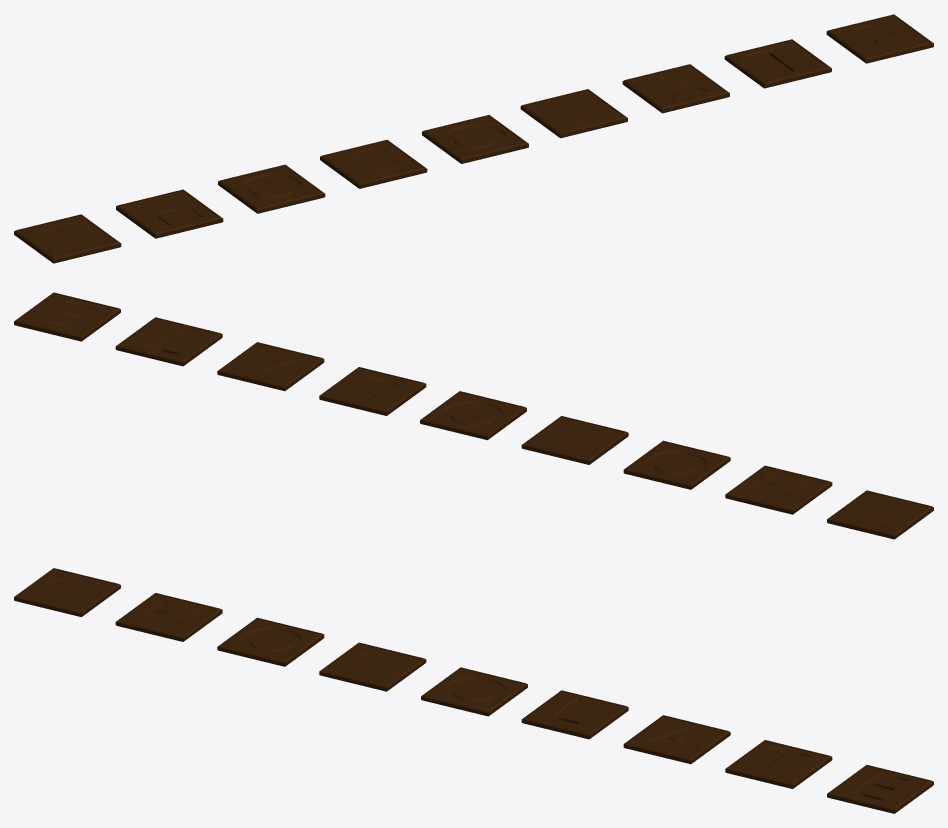
Rendered from chocolate.glb.
The picture shows the model from 3 angles, top to bottom: view 1: azimuth 30°, elevation 25°; view 2: azimuth 150°, elevation 25°; view 3: azimuth 330°, elevation 25°; orthographic projection.
Visible parts, largest first — view 1: chocolateO, chocolateC, chocolateL, chocolateE, chocolateA, chocolateC2, chocolateH, chocolateT, chocolateO2; view 2: chocolateH, chocolateC2, chocolateA, chocolateE, chocolateL, chocolateT, chocolateO, chocolateO2, chocolateC; view 3: chocolateC2, chocolateH, chocolateA, chocolateL, chocolateT, chocolateO, chocolateE, chocolateC, chocolateO2.
Part boxes in pixels (<box>): chocolateO: <box>218,164,325,213</box>; chocolateC: <box>14,214,121,263</box>; chocolateL: <box>520,89,627,138</box>; chocolateE: <box>826,14,933,63</box>; chocolateA: <box>622,64,729,113</box>; chocolateC2: <box>320,139,427,188</box>; chocolateH: <box>116,189,223,238</box>; chocolateT: <box>724,39,831,88</box>; chocolateO2: <box>422,115,528,163</box>; chocolateH: <box>725,465,832,514</box>; chocolateC2: <box>521,416,628,464</box>; chocolateA: <box>217,342,324,391</box>; chocolateE: <box>14,292,120,341</box>; chocolateL: <box>319,367,426,415</box>; chocolateT: <box>115,317,222,366</box>; chocolateO: <box>623,440,730,489</box>; chocolateO2: <box>420,391,526,440</box>; chocolateC: <box>827,490,933,539</box>; chocolateC2: <box>319,642,426,691</box>; chocolateH: <box>115,593,222,641</box>; chocolateA: <box>623,715,730,764</box>; chocolateL: <box>521,690,628,739</box>; chocolateT: <box>725,740,832,788</box>; chocolateO: <box>217,617,324,666</box>; chocolateE: <box>827,765,933,813</box>; chocolateC: <box>14,568,120,617</box>; chocolateO2: <box>421,667,527,716</box>.
Size of the model in its own units: 25.94 by 0.1705 by 2.06.
